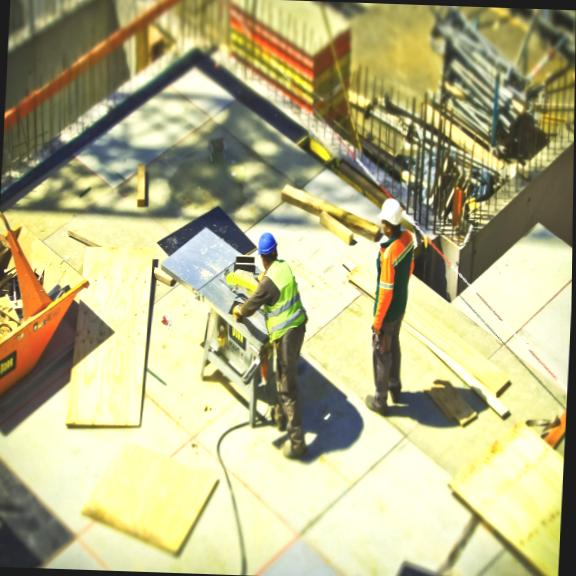safety_vest: (366, 226, 418, 330), (255, 259, 310, 342)
